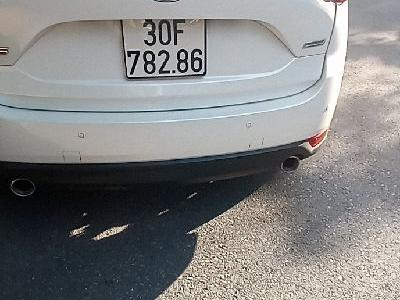car: (122, 17, 209, 78)
